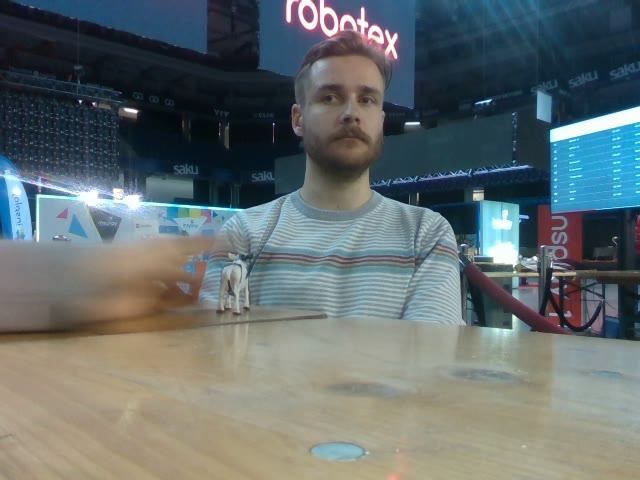toy: (217, 250, 254, 315)
